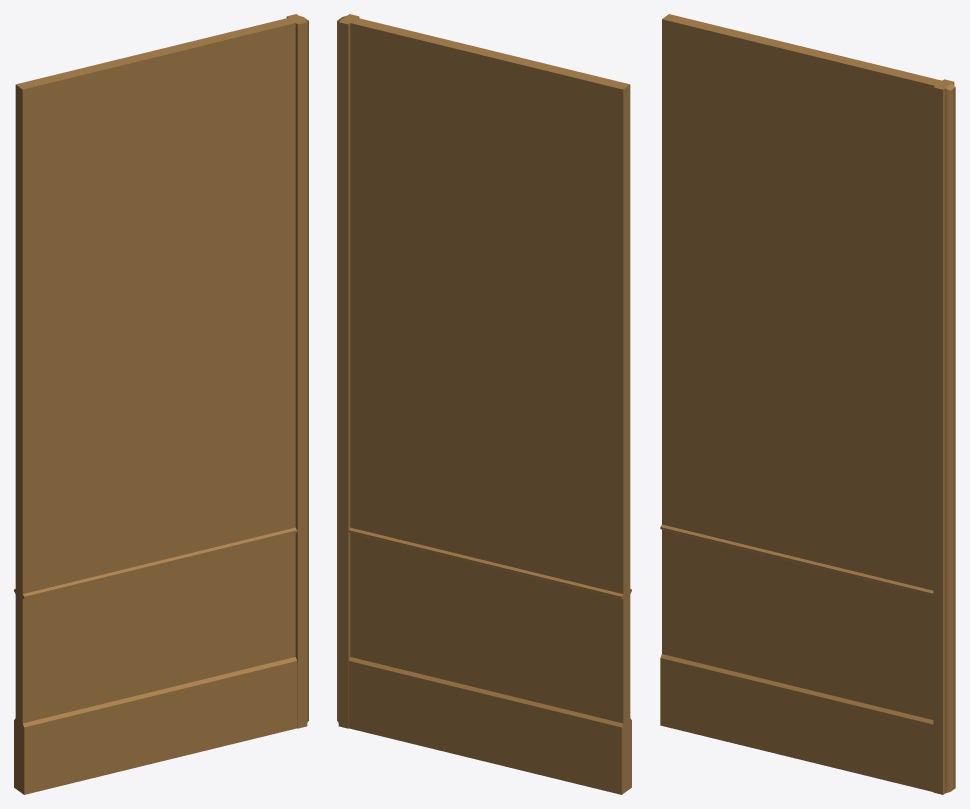
File: door_left_inner_01.fbx
3 renders of one model, left to right at view 1: azimuth 30°, elevation 25°; view 2: azimuth 150°, elevation 25°; view 3: azimuth 330°, elevation 25°, orthographic.
Parts seen in each view (by area): view 1: polySurface999; view 2: polySurface999; view 3: polySurface999.
Part boxes in pixels (x1,y1,x2,y2): polySurface999: (14,14,308,794); polySurface999: (337,14,631,794); polySurface999: (660,14,955,794).
Size of the model in its own units: 102 by 238 by 6.74.
